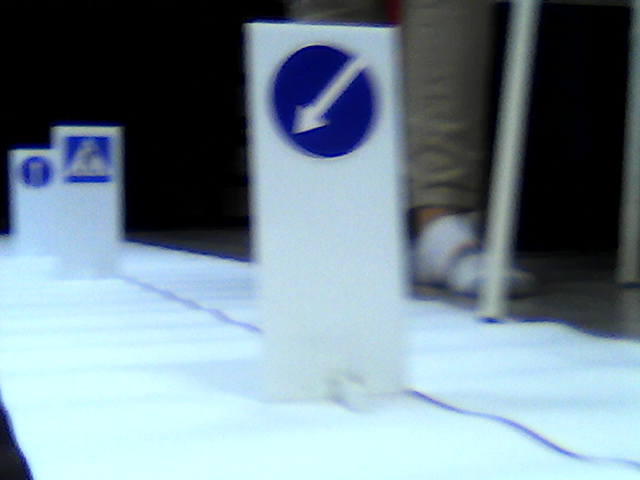prep: (268, 45, 374, 159)
